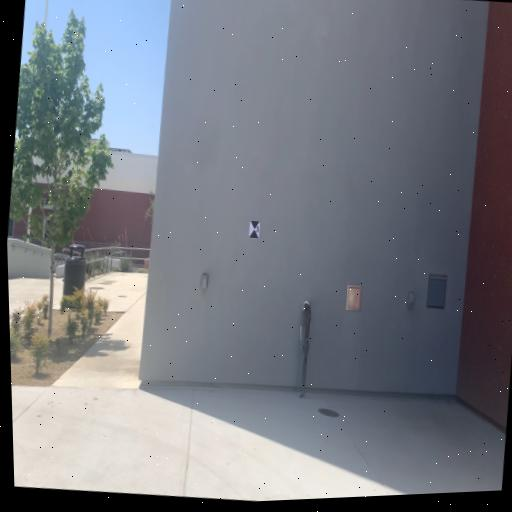target5: (249, 220, 260, 240)
